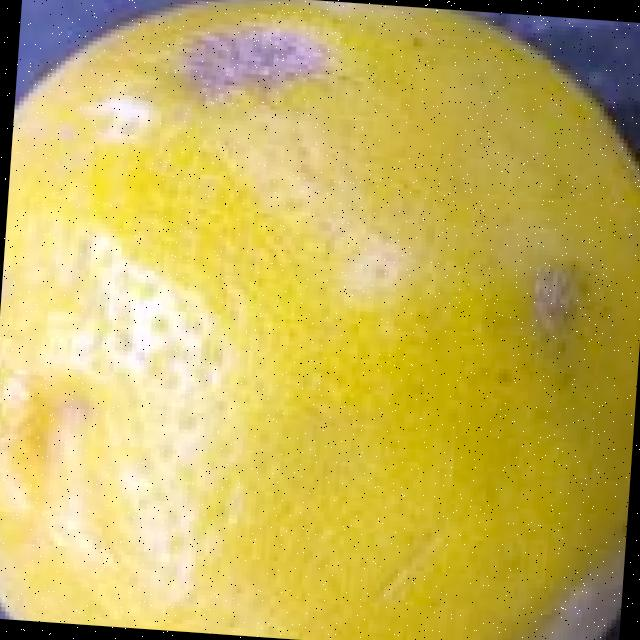Bad_Orange-0-1 day: (0, 0, 640, 640)
